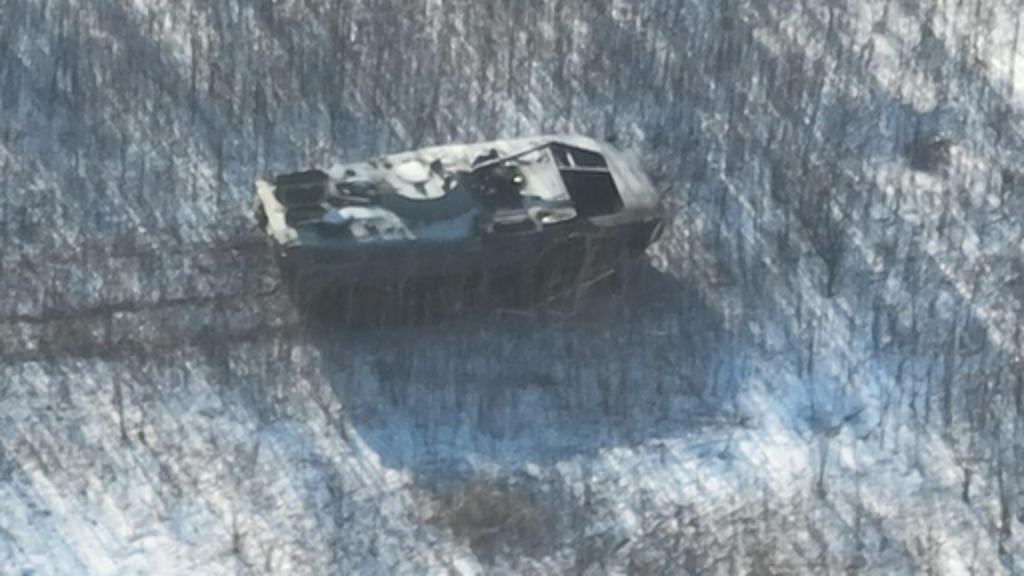APC-IFV: (228, 118, 662, 310)
